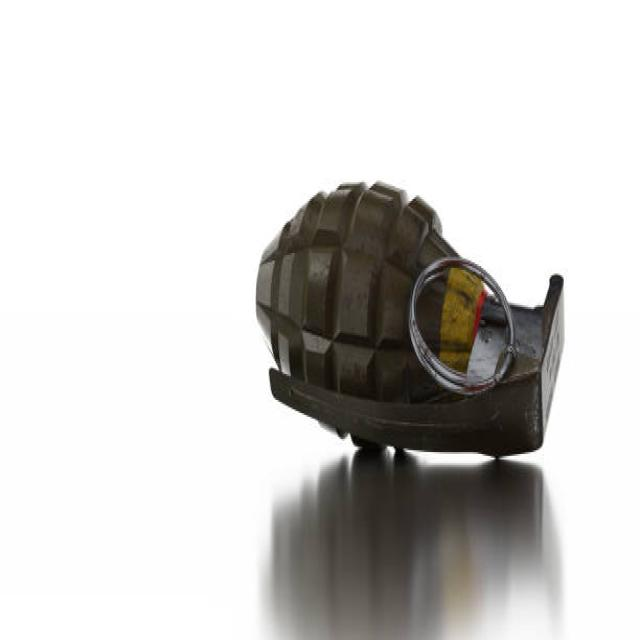grenade: (252, 175, 571, 465)
